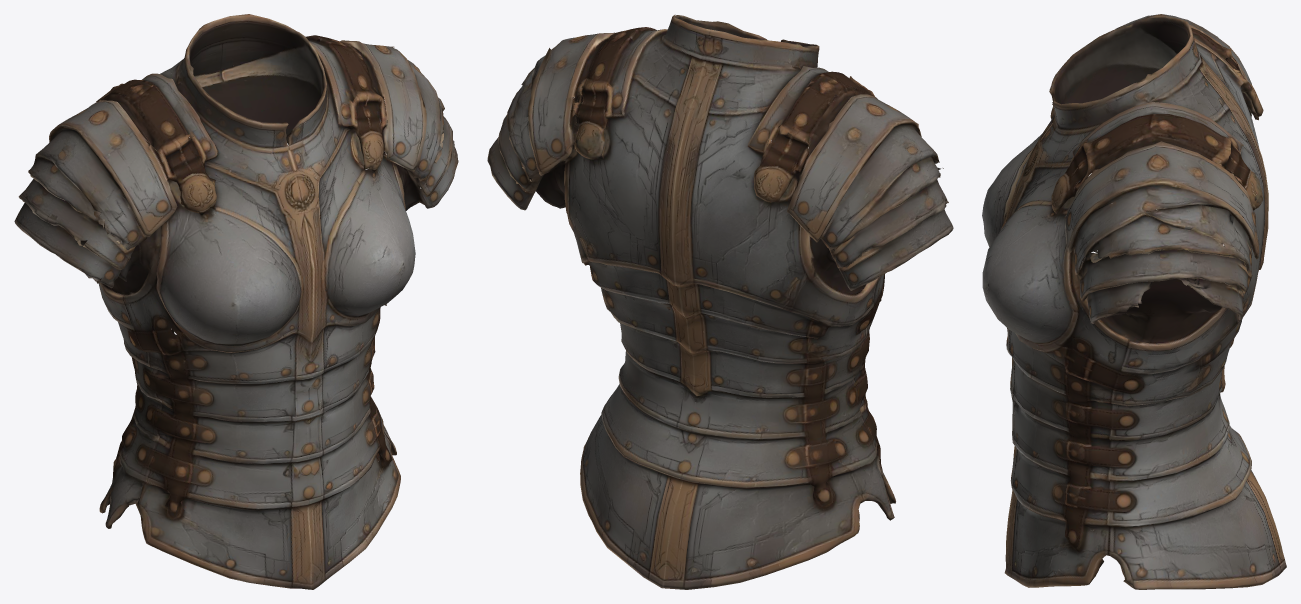
File: metal breastplate 3d model.glb
3 renders of one model, left to right at view 1: azimuth 30°, elevation 25°; view 2: azimuth 150°, elevation 25°; view 3: azimuth 270°, elevation 25°, orthographic. The views are drawn at different scales.
Visible parts, largest first — view 1: tripo_node_f303199f; view 2: tripo_node_f303199f; view 3: tripo_node_f303199f.
Boxes of the visible parts, bbox=[...] form: tripo_node_f303199f: bbox=[14, 14, 458, 589]; tripo_node_f303199f: bbox=[487, 14, 953, 589]; tripo_node_f303199f: bbox=[982, 14, 1286, 589].
Size of the model in its own units: 84.1 by 99.21 by 50.65.
1 material, 1 textured.
